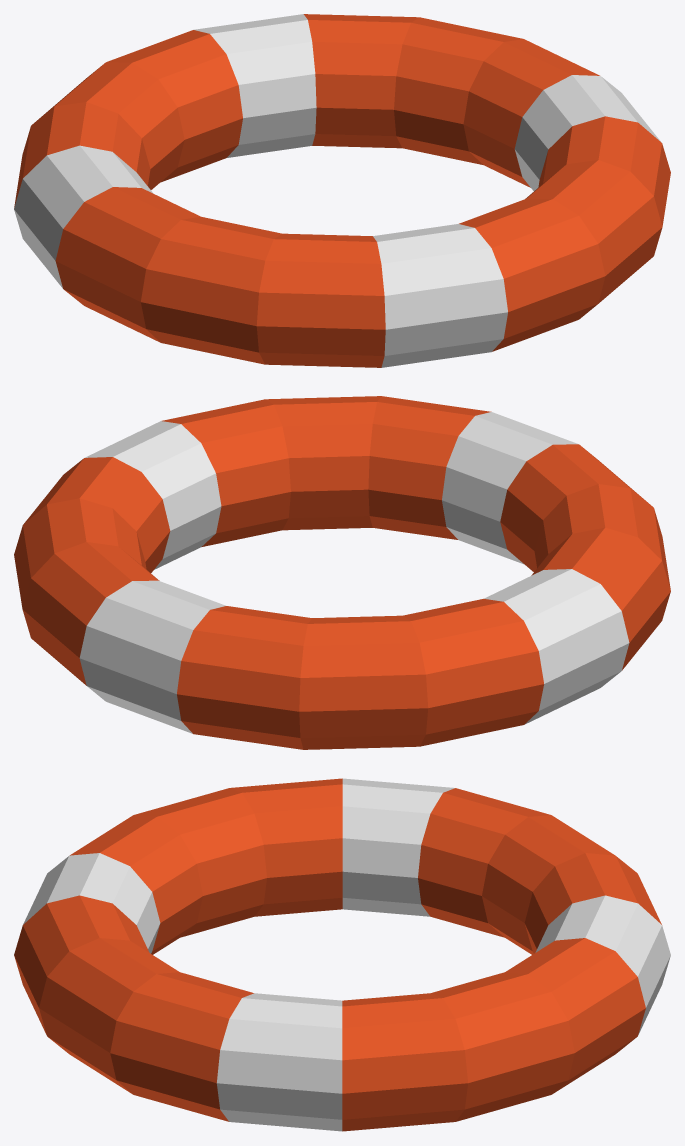
Rendered from Lifebuoy.fbx.
3 renders of one model, top to bottom at view 1: azimuth 30°, elevation 25°; view 2: azimuth 150°, elevation 25°; view 3: azimuth 270°, elevation 25°, orthographic.
Parts seen in each view (by area): view 1: Torus; view 2: Torus; view 3: Torus.
Part boxes in pixels (left/top/right/bottom): Torus: left=14, top=14, right=670, bottom=367; Torus: left=14, top=396, right=670, bottom=749; Torus: left=14, top=778, right=670, bottom=1131.
Bounding box in the file's own units: 250 × 50 × 250.
